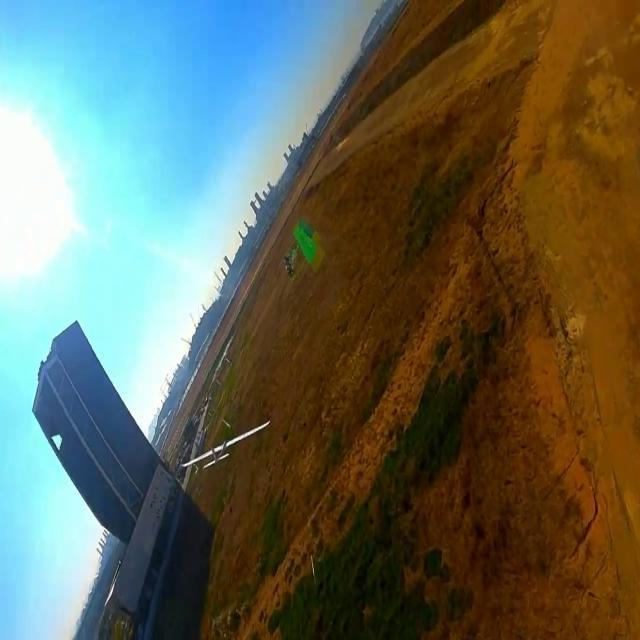iha: (211, 420, 238, 470)
